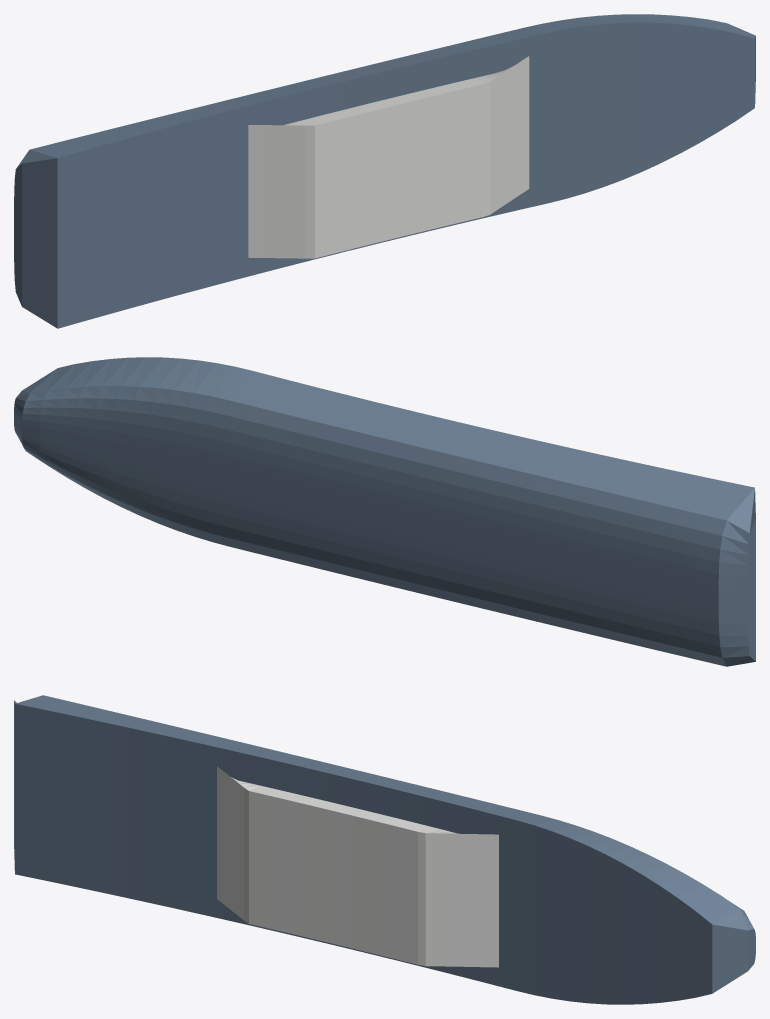
The model's file is loft-barge-sheered.glb.
3 renders of one model, top to bottom at view 1: azimuth 30°, elevation 25°; view 2: azimuth 150°, elevation 25°; view 3: azimuth 330°, elevation 25°, orthographic.
Parts seen in each view (by area): view 1: barge-loft-sheered; view 2: barge-loft-sheered; view 3: barge-loft-sheered.
Boxes of the visible parts, <box> form: barge-loft-sheered: <box>14,14,755,328</box>; barge-loft-sheered: <box>14,357,755,666</box>; barge-loft-sheered: <box>14,695,755,1004</box>.
Bounding box in the file's own units: 1.89 × 0.42 × 0.2136.
